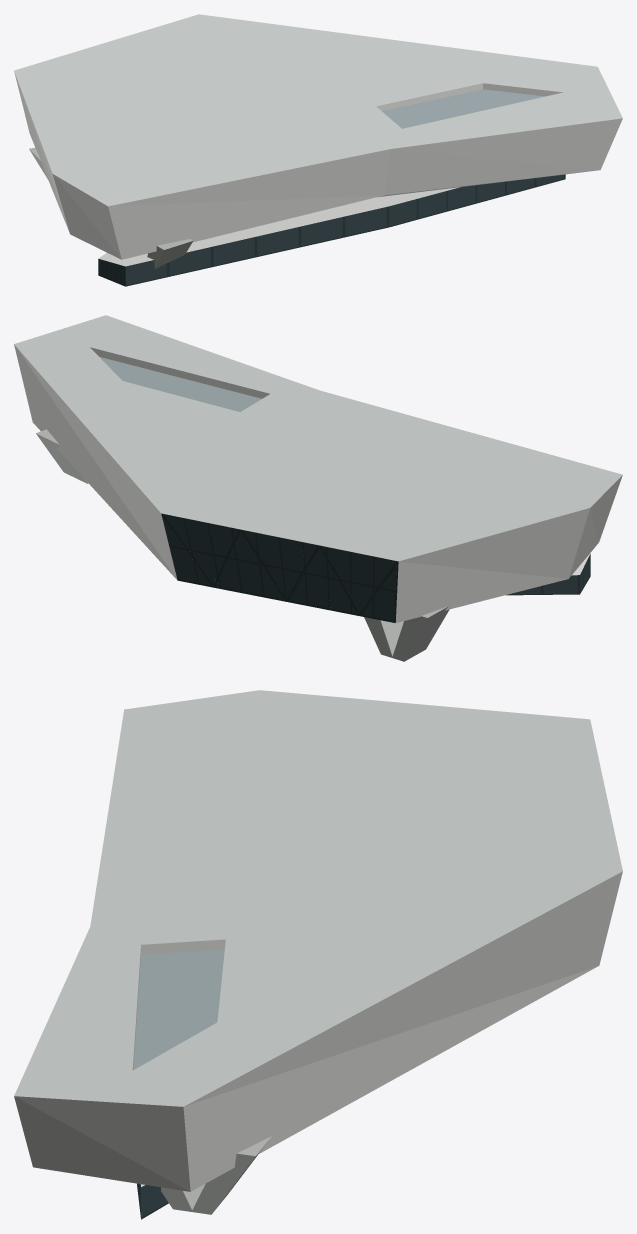
File: porsche-museum-far.glb
3 views of the same model, one above another, from view 1: azimuth 30°, elevation 25°; view 2: azimuth 150°, elevation 25°; view 3: azimuth 270°, elevation 25° (orthographic). The views are drawn at different scales.
Parts seen in each view (by area): view 1: porsche-museum-0-roof, porsche-museum-0-white, porsche-museum-0-glow, porsche-museum-0-soffit, porsche-museum-0-frame, porsche-museum-0-concrete; view 2: porsche-museum-0-roof, porsche-museum-0-white, porsche-museum-0-glow, porsche-museum-0-frame, porsche-museum-0-concrete, porsche-museum-0-soffit; view 3: porsche-museum-0-roof, porsche-museum-0-white, porsche-museum-0-soffit, porsche-museum-0-concrete.
Part boxes in pixels (x1,y1,x2,y2): porsche-museum-0-roof: [14, 14, 622, 206]; porsche-museum-0-white: [14, 72, 622, 266]; porsche-museum-0-glow: [98, 174, 563, 285]; porsche-museum-0-soffit: [377, 89, 586, 197]; porsche-museum-0-frame: [98, 174, 565, 286]; porsche-museum-0-concrete: [29, 147, 193, 268]; porsche-museum-0-roof: [14, 315, 622, 561]; porsche-museum-0-white: [14, 344, 622, 622]; porsche-museum-0-glow: [162, 514, 590, 620]; porsche-museum-0-frame: [161, 513, 590, 622]; porsche-museum-0-concrete: [36, 429, 449, 661]; porsche-museum-0-soffit: [100, 357, 261, 411]; porsche-museum-0-roof: [14, 690, 622, 1106]; porsche-museum-0-white: [14, 871, 622, 1191]; porsche-museum-0-soffit: [133, 949, 224, 1069]; porsche-museum-0-concrete: [161, 1136, 271, 1214].
Bounding box in the file's own units: 115 × 23 × 71.86.
